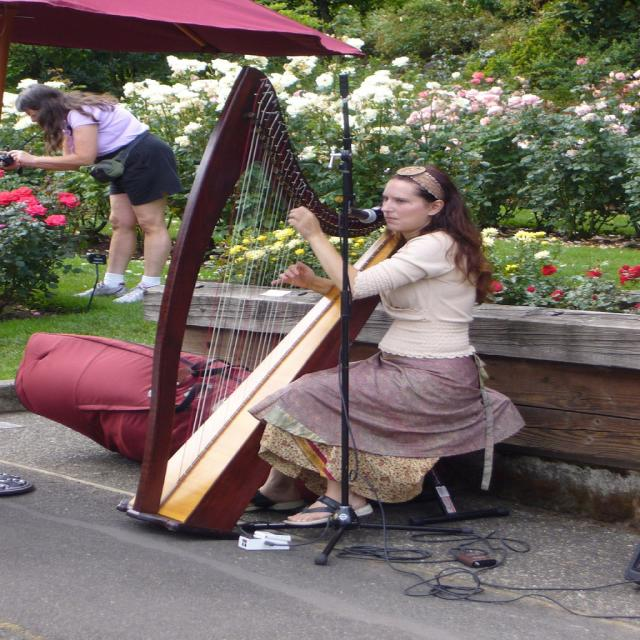harp: (112, 68, 395, 541)
